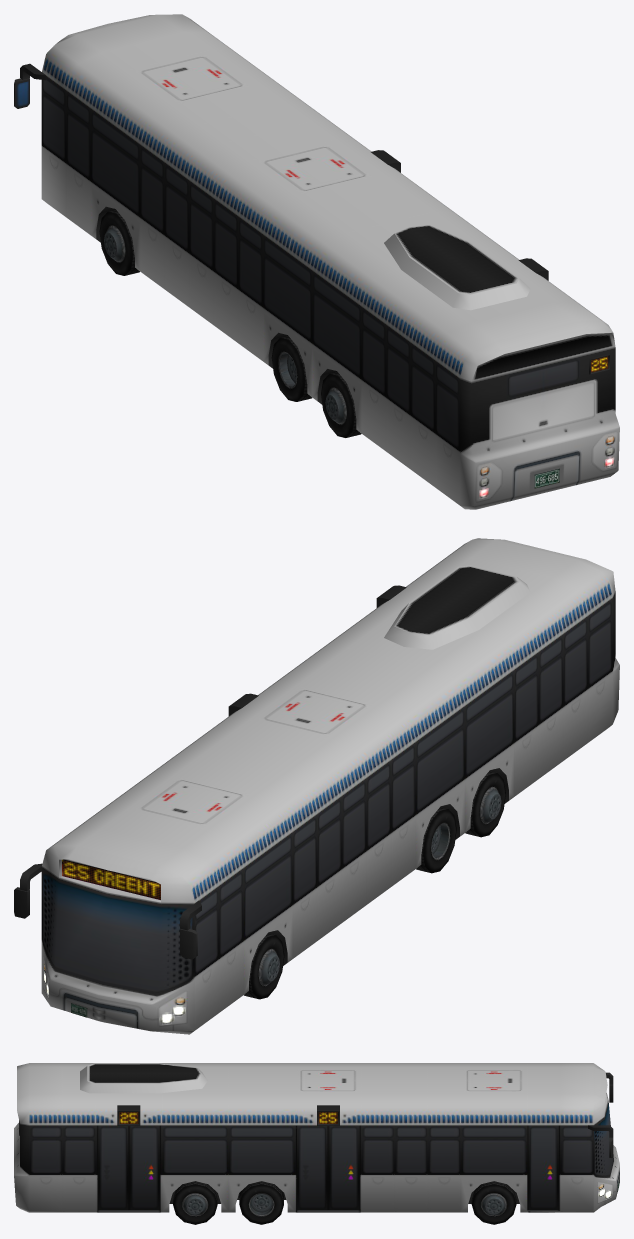
The model's file is car1.gltf.
3 views of the same model, one above another, from view 1: azimuth 30°, elevation 25°; view 2: azimuth 150°, elevation 25°; view 3: azimuth 270°, elevation 25° (orthographic). The views are drawn at different scales.
Parts seen in each view (by area): view 1: node_Bus_1C_-3128, node_WheelDouble_-3142, node_Wheel_Rear_L_-3146, node_Wheel_Front_L_-3138; view 2: node_Bus_1C_-3128, node_Wheel_Rear_L_-3146, node_Wheel_Front_L_-3138, node_WheelDouble_-3142; view 3: node_Bus_1C_-3128, node_Wheel_Middle_R_-3144, node_Wheel_Front_R_-3140, node_Wheel_Rear_R_-3148.
Part boxes in pixels (x1=…): node_Bus_1C_-3128: x1=14, y1=14, x2=619, y2=509; node_WheelDouble_-3142: x1=271, y1=336, x2=311, y2=401; node_Wheel_Rear_L_-3146: x1=321, y1=372, x2=361, y2=437; node_Wheel_Front_L_-3138: x1=99, y1=210, x2=139, y2=275; node_Bus_1C_-3128: x1=14, y1=538, x2=619, y2=1034; node_Wheel_Rear_L_-3146: x1=465, y1=771, x2=505, y2=837; node_Wheel_Front_L_-3138: x1=244, y1=933, x2=284, y2=999; node_WheelDouble_-3142: x1=416, y1=807, x2=456, y2=873; node_Bus_1C_-3128: x1=14, y1=1063, x2=619, y2=1212; node_Wheel_Middle_R_-3144: x1=239, y1=1181, x2=283, y2=1224; node_Wheel_Front_R_-3140: x1=471, y1=1181, x2=516, y2=1224; node_Wheel_Rear_R_-3148: x1=173, y1=1181, x2=217, y2=1224.
Bounding box in the file's own units: 3.44 × 3.37 × 14.66.
1 material, 1 textured.
